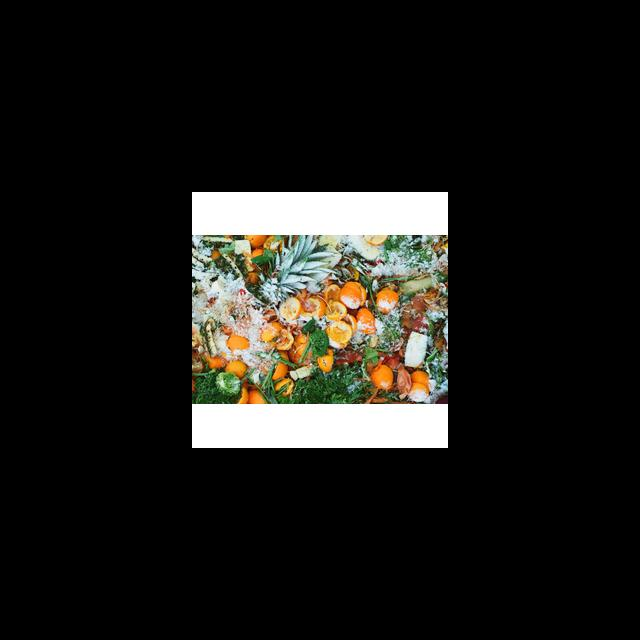food_waste: (192, 235, 447, 402)
